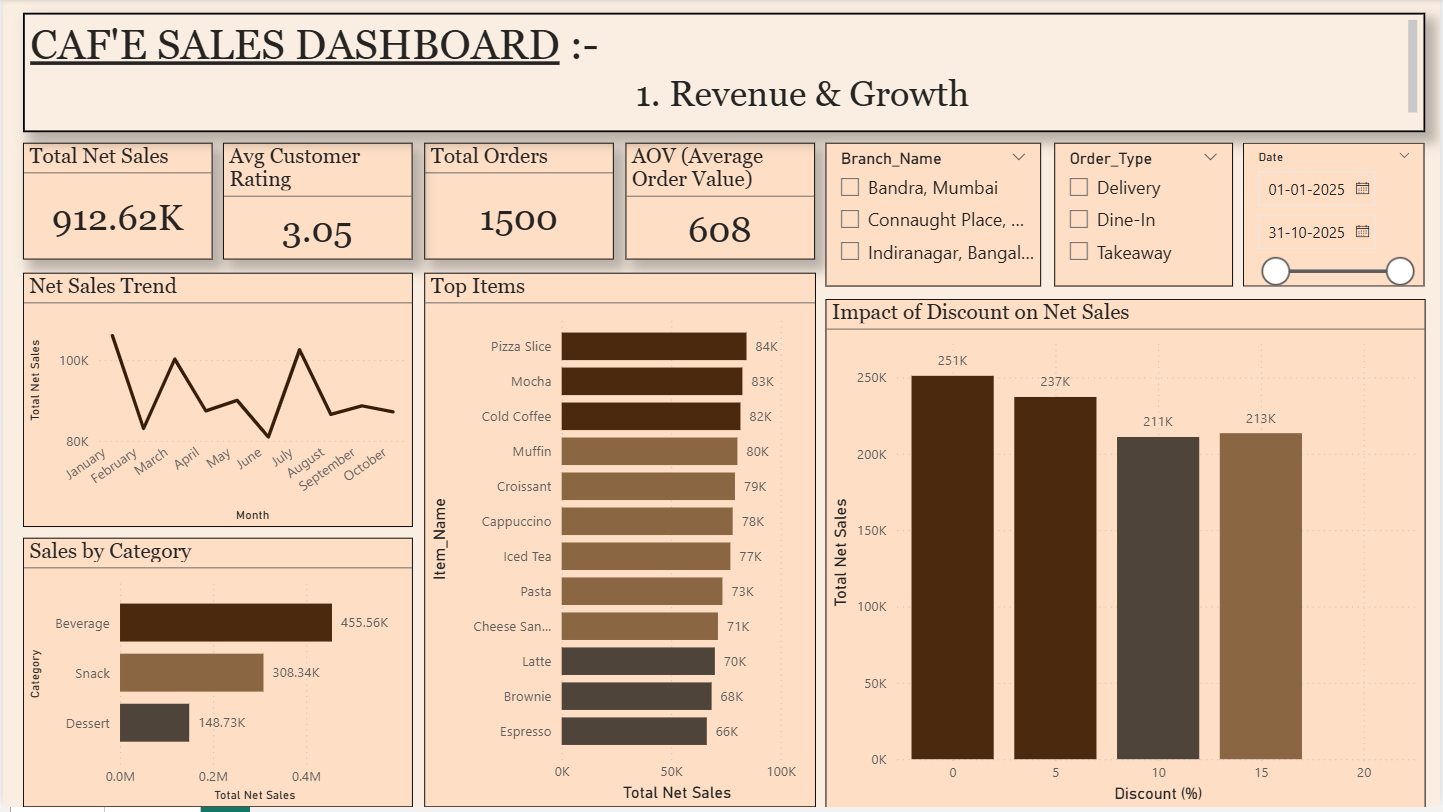

Layout of this report page (visuals, bound fields, positions):
{"tool":"powerbi","page":{"name":"Page 1","canvas":[1280,720],"ordinal":0},"visuals":[{"type":"card","title":"Total Net Sales ","fields":{"Values":["Cafe Sales.Total Net Sales"]},"box":[17.8,127.6,168.8,104.3],"z":0},{"type":"card","title":"Total Orders ","fields":{"Values":["Cafe Sales.Total Orders"]},"box":[374.6,127.6,168.8,104.3],"z":1},{"type":"card","title":" AOV (Average Order Value)","fields":{"Values":["Cafe Sales.AOV"]},"box":[554.4,127.6,168.8,104.3],"z":2},{"type":"card","title":"Avg Customer Rating","fields":{"Values":["Avg(Cafe Sales.Customer_Rating)"]},"box":[196.2,127.6,168.8,104.3],"z":3},{"type":"textbox","box":[18.1,12.1,1248.7,106.2],"z":4},{"type":"lineChart","title":"Net Sales Trend ","fields":{"Category":["Cafe Sales.Date.Variation.Date Hierarchy.Month","Cafe Sales.Date.Variation.Date Hierarchy.Day"],"Y":["Cafe Sales.Total Net Sales"]},"box":[17.8,244.3,347.2,226.4],"z":5},{"type":"clusteredBarChart","title":"Sales by Category","fields":{"Category":["Cafe Sales.Category"],"Y":["Cafe Sales.Total Net Sales"]},"box":[17.8,480.3,347.2,240.1],"z":6},{"type":"clusteredBarChart","title":"Top Items ","fields":{"Category":["Cafe Sales.Item_Name"],"Y":["Cafe Sales.Total Net Sales"]},"box":[374.6,244.3,348.5,476.2],"z":7},{"type":"columnChart","title":"Impact of Discount on Net Sales","fields":{"Category":["Cafe Sales.Discount (%)"],"Y":["Cafe Sales.Total Net Sales"]},"box":[732.3,266.6,534.5,453.6],"z":8},{"type":"slicer","fields":{"Values":["Cafe Sales.Branch_Name"]},"box":[732.8,127.6,192.1,127.6],"z":9},{"type":"slicer","fields":{"Values":["Cafe Sales.Order_Type"]},"box":[935.9,127.6,159.2,127.6],"z":10},{"type":"slicer","fields":{"Values":["Cafe Sales.Date"]},"box":[1104.6,127.6,161.9,127.6],"z":11}]}

Visuals, with their boxes in screenshot pixels (x1, y1, x2, y2), scaled from the page's 1280x720 canvas onto the 1443x812 screenshot:
"Total Net Sales " card: locate(20, 144, 210, 262)
"Total Orders " card: locate(422, 144, 613, 262)
" AOV (Average Order Value)" card: locate(625, 144, 815, 262)
"Avg Customer Rating" card: locate(221, 144, 411, 262)
textbox: locate(20, 14, 1428, 133)
"Net Sales Trend " lineChart: locate(20, 276, 411, 531)
"Sales by Category" clusteredBarChart: locate(20, 542, 411, 811)
"Top Items " clusteredBarChart: locate(422, 276, 815, 811)
"Impact of Discount on Net Sales" columnChart: locate(826, 301, 1428, 811)
slicer - Cafe Sales.Branch_Name: locate(826, 144, 1043, 288)
slicer - Cafe Sales.Order_Type: locate(1055, 144, 1235, 288)
slicer - Cafe Sales.Date: locate(1245, 144, 1428, 288)
